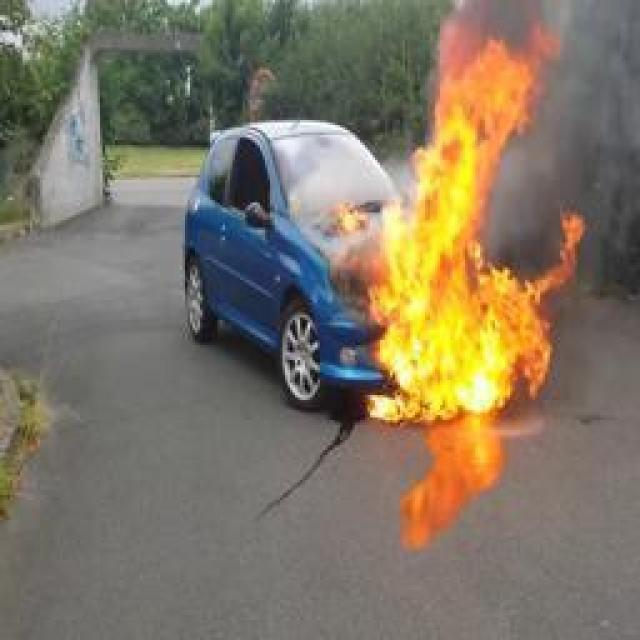Fire: (344, 4, 584, 418)
